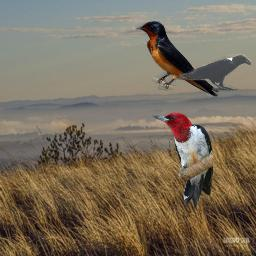Crow: (178, 54, 251, 91)
Swallow: (135, 21, 219, 98)
Woodpecker: (152, 112, 213, 210)
